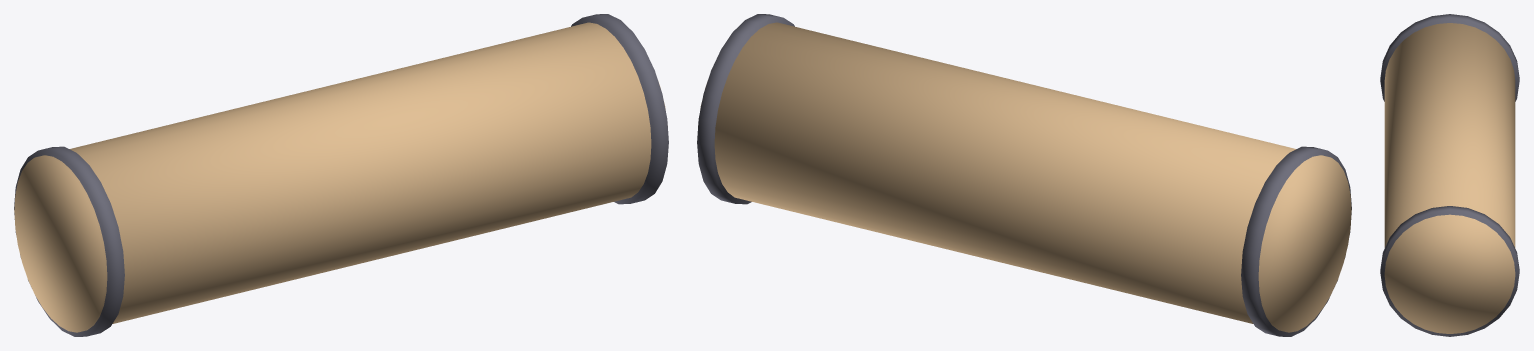
The model's file is reargrip_cork.glb.
3 views of the same model, side by side, from view 1: azimuth 30°, elevation 25°; view 2: azimuth 150°, elevation 25°; view 3: azimuth 270°, elevation 25° (orthographic). The views are drawn at different scales.
Visible parts, largest first — view 1: body, c0, c1; view 2: body, c0, c1; view 3: body, c1, c0.
Part boxes in pixels (x1,y1,x2,y2): body: (14, 22, 667, 332); c0: (14, 146, 124, 336); c1: (571, 14, 668, 204); body: (698, 22, 1351, 332); c0: (1241, 146, 1351, 336); c1: (697, 14, 794, 204); body: (1384, 23, 1515, 333); c1: (1380, 206, 1519, 336); c0: (1380, 14, 1519, 101).
Size of the model in its own units: 1.15 by 0.34 by 0.34.
